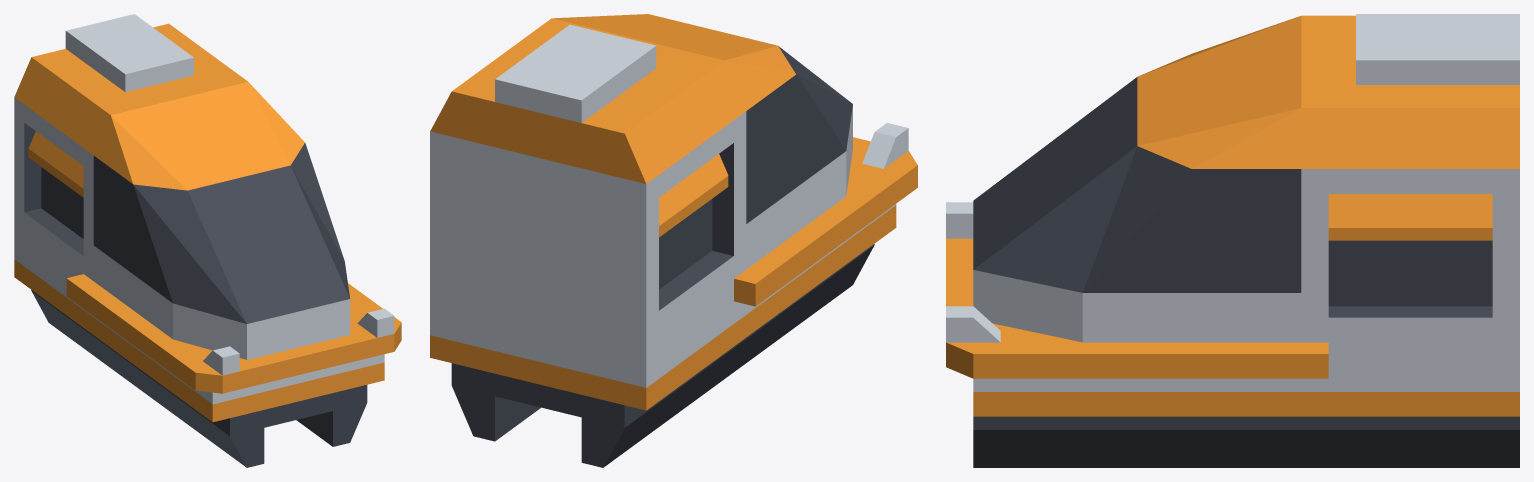
Rendered from monorail_trainFront.fbx.
3 views of the same model, side by side, from view 1: azimuth 30°, elevation 25°; view 2: azimuth 150°, elevation 25°; view 3: azimuth 270°, elevation 25° (orthographic). The views are drawn at different scales.
Parts seen in each view (by area): view 1: monorail_trainFront; view 2: monorail_trainFront; view 3: monorail_trainFront.
Part boxes in pixels (x1=…): monorail_trainFront: x1=14, y1=14, x2=401, y2=467; monorail_trainFront: x1=430, y1=14, x2=917, y2=467; monorail_trainFront: x1=946, y1=14, x2=1519, y2=467.
Bounding box in the file's own units: 6 × 8 × 10.5.
